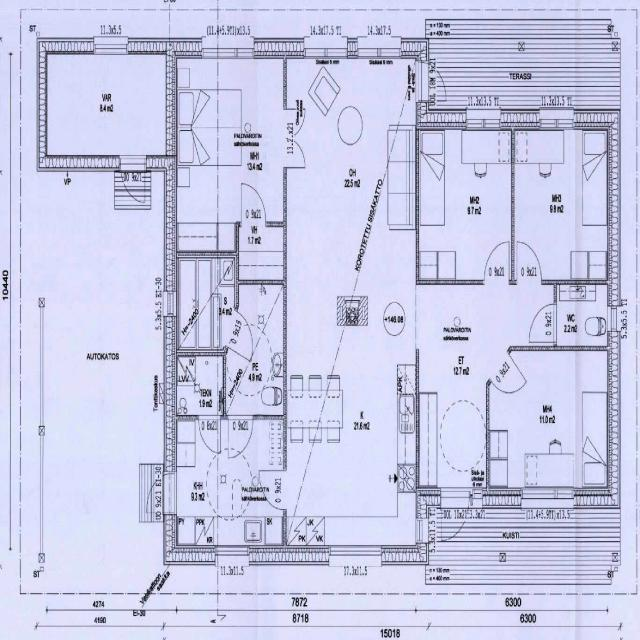door: (490, 351, 526, 408), (225, 310, 260, 362), (442, 488, 469, 552), (138, 473, 176, 512), (416, 62, 453, 100), (120, 154, 144, 210), (484, 240, 509, 284), (228, 415, 253, 459), (259, 470, 286, 509), (517, 241, 541, 284), (241, 183, 265, 226), (530, 304, 556, 342), (198, 415, 220, 454), (283, 138, 305, 167), (283, 109, 305, 138)
